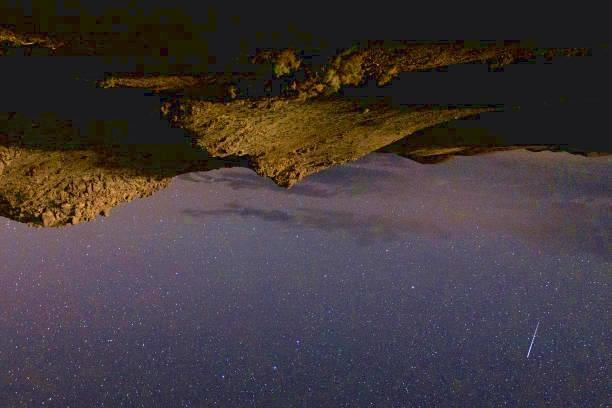meteorite: (520, 310, 552, 362)
